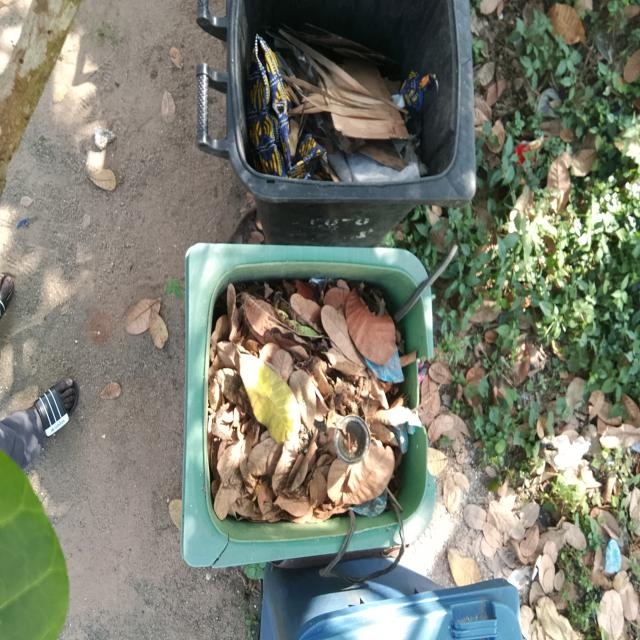full: (180, 240, 434, 566)
half-full: (226, 0, 475, 203)
